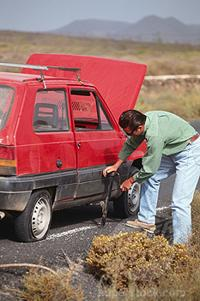person: (103, 108, 200, 245)
